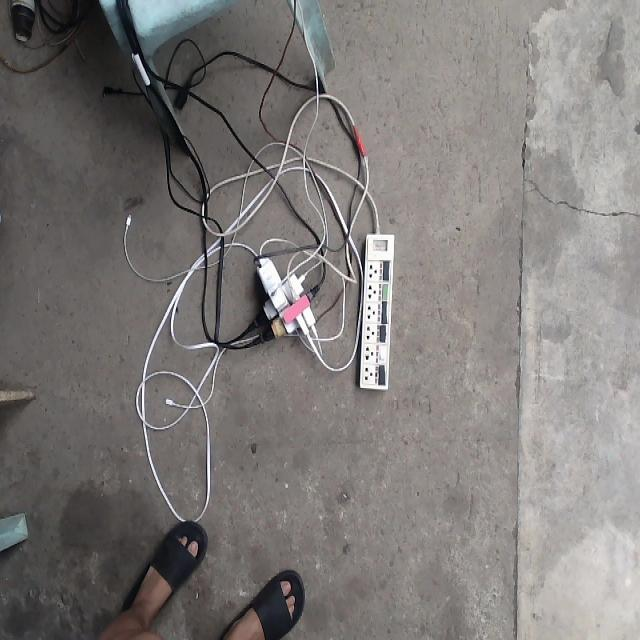-: (233, 224, 334, 368)
